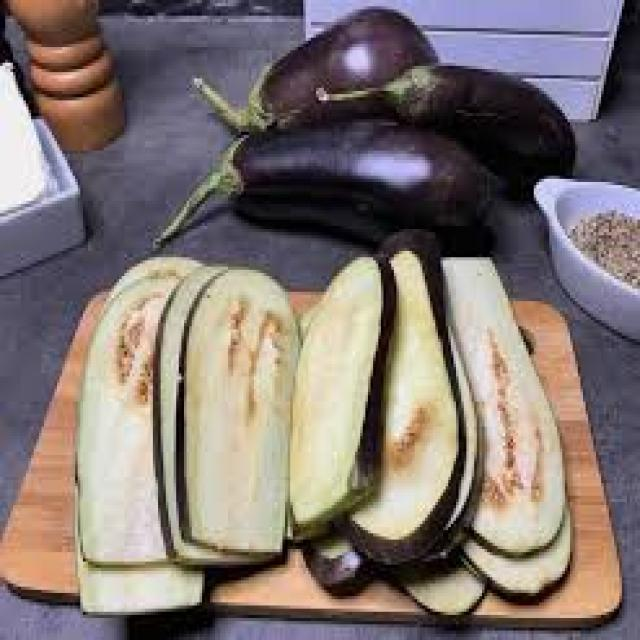eggplant: (43, 223, 608, 584), (195, 101, 480, 259), (344, 51, 588, 192), (206, 0, 442, 117)
